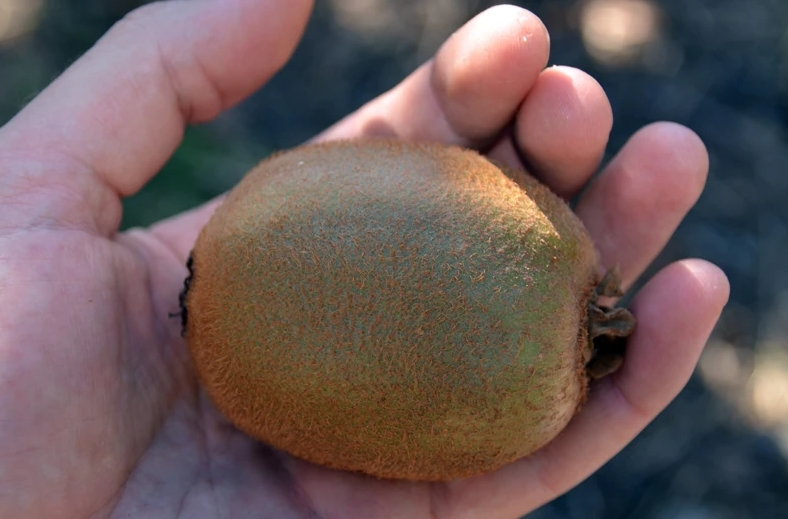kiwi: (121, 87, 683, 480)
